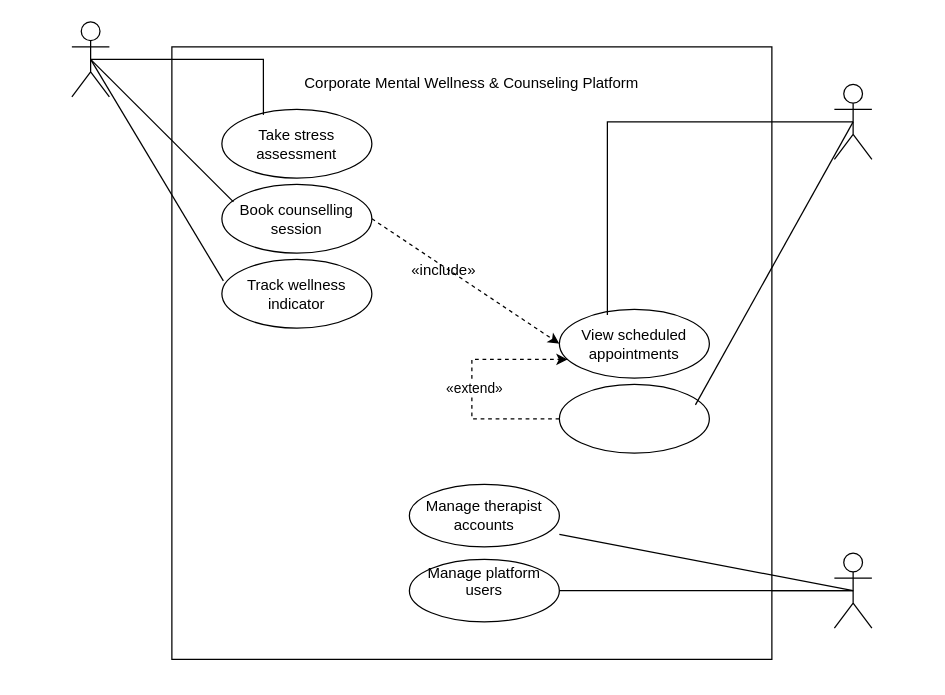
Image size: 945x695. Some labels were removed from this diagram. The shapes that lost their labels are listed below. From the top down, each one's centre as x and y in pixels, then its label:
At (90,59): "Corporate Employee".
At (852,121): "Licensed Therapist".
At (633,418): "Manage appointment".
At (852,590): "System Administrator".
